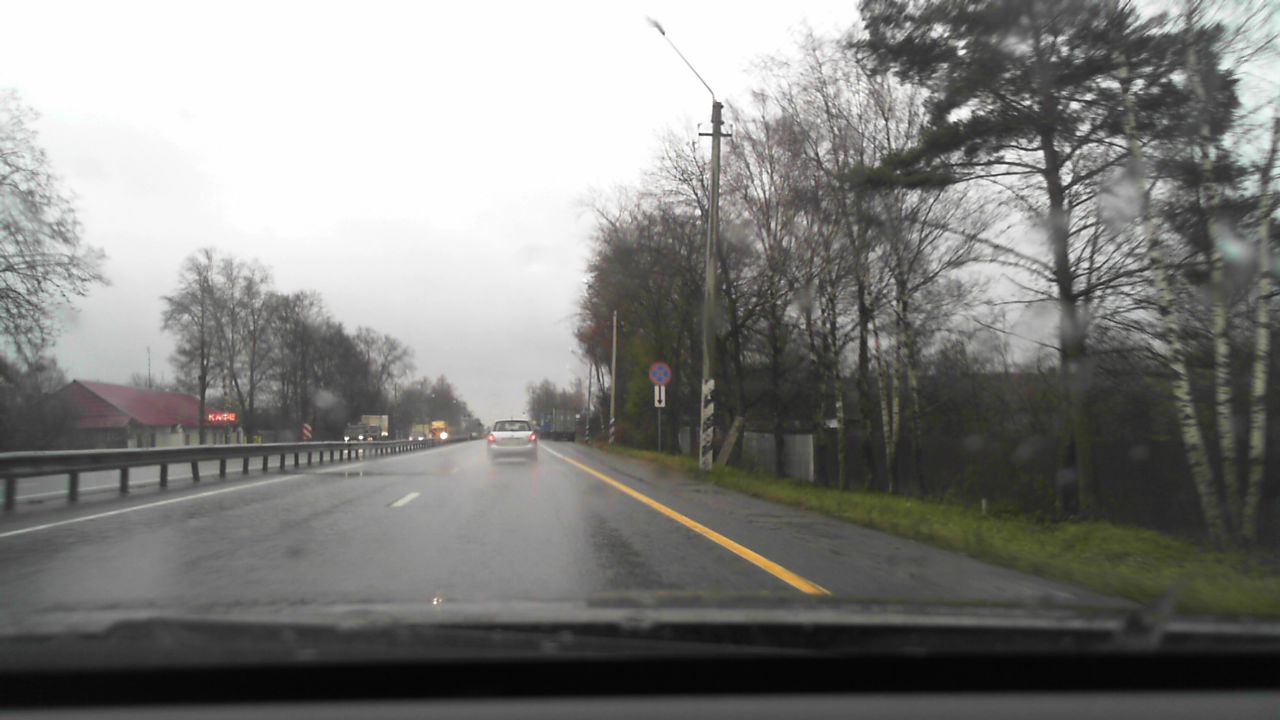No Parking: (648, 361, 671, 384)
